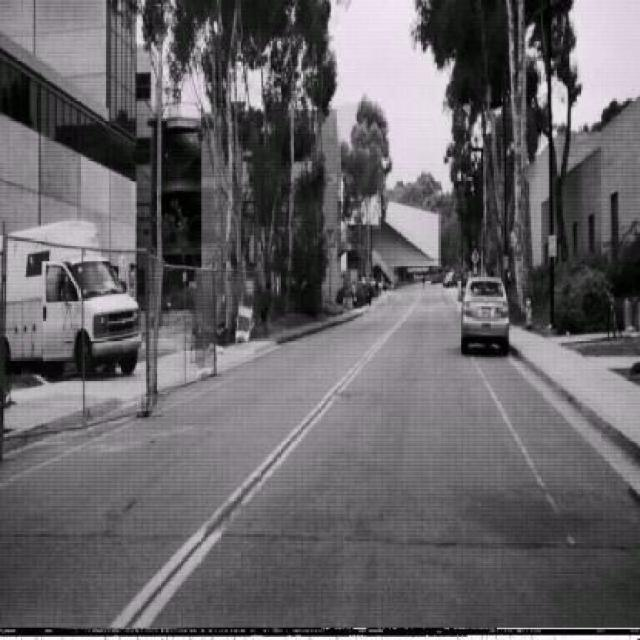pedestrianCrossing: (470, 248, 480, 264)
